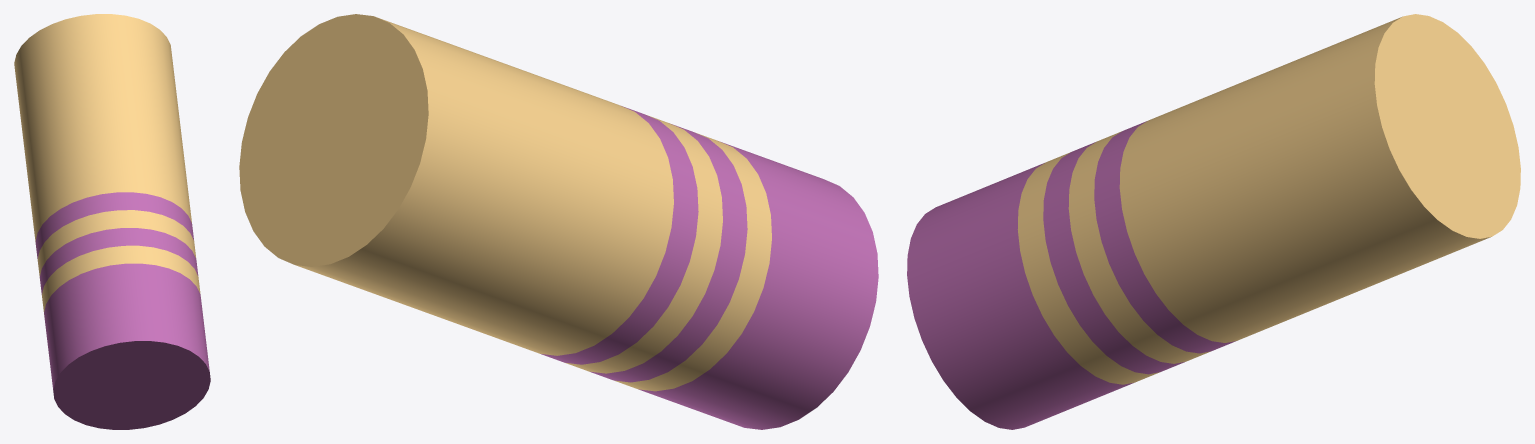
Rendered from Pen_3.glb.
The picture shows the model from 3 angles, left to right: view 1: azimuth 30°, elevation 25°; view 2: azimuth 150°, elevation 25°; view 3: azimuth 270°, elevation 25°; orthographic projection. The views are drawn at different scales.
Visible parts, largest first — view 1: Pen_3; view 2: Pen_3; view 3: Pen_3.
Boxes of the visible parts, x1=… form: Pen_3: x1=14, y1=14, x2=210, y2=429; Pen_3: x1=239, y1=14, x2=878, y2=429; Pen_3: x1=907, y1=14, x2=1520, y2=429.
Bounding box in the file's own units: 1.19 × 1.42 × 1.72.
